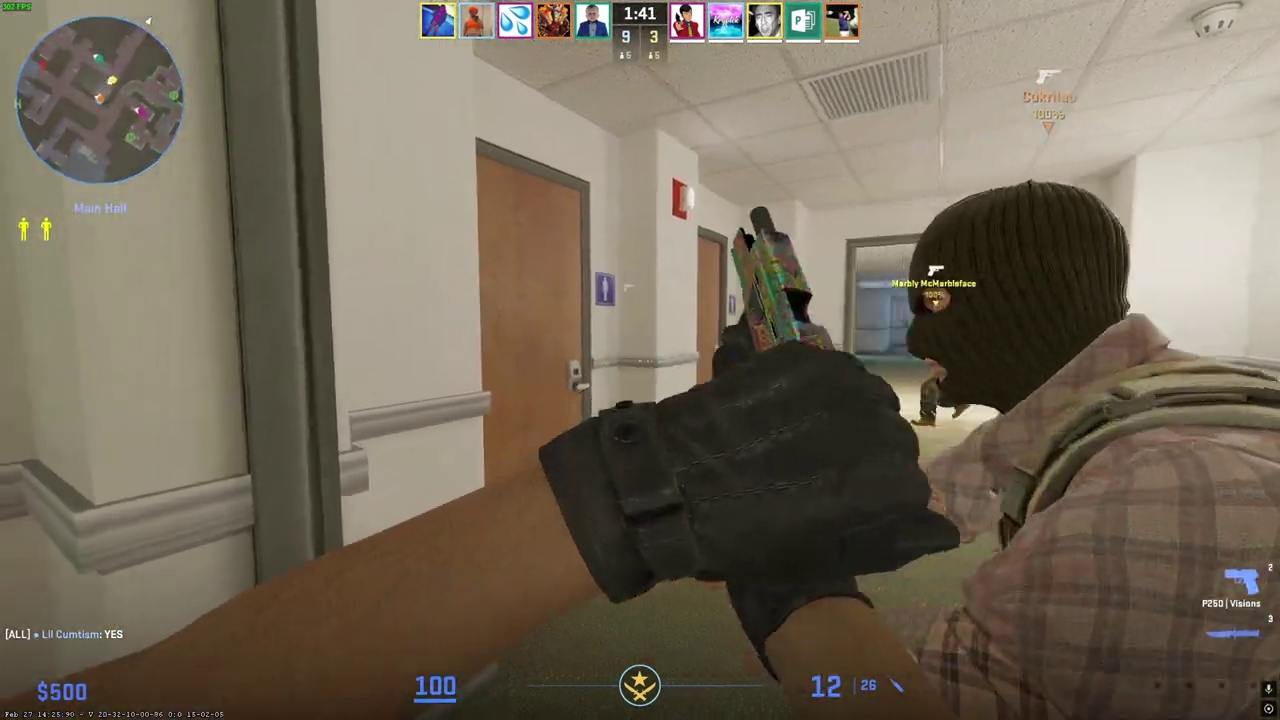Terrorist: (897, 179, 1280, 720)
